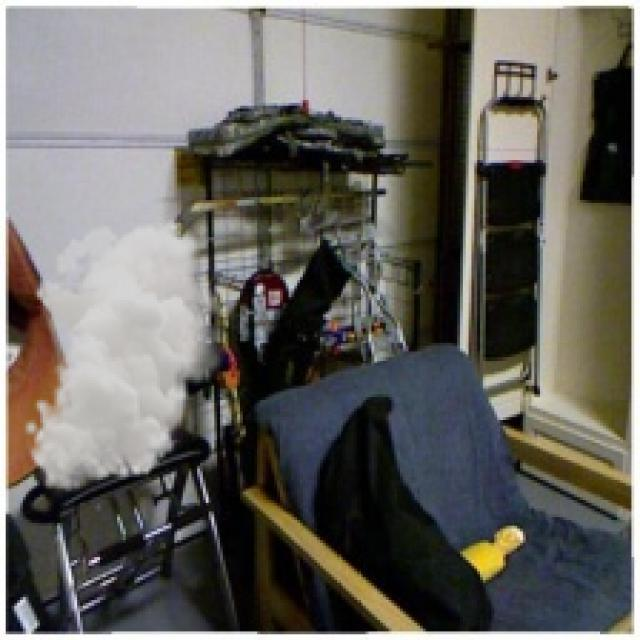Smoke: (22, 217, 228, 492)
